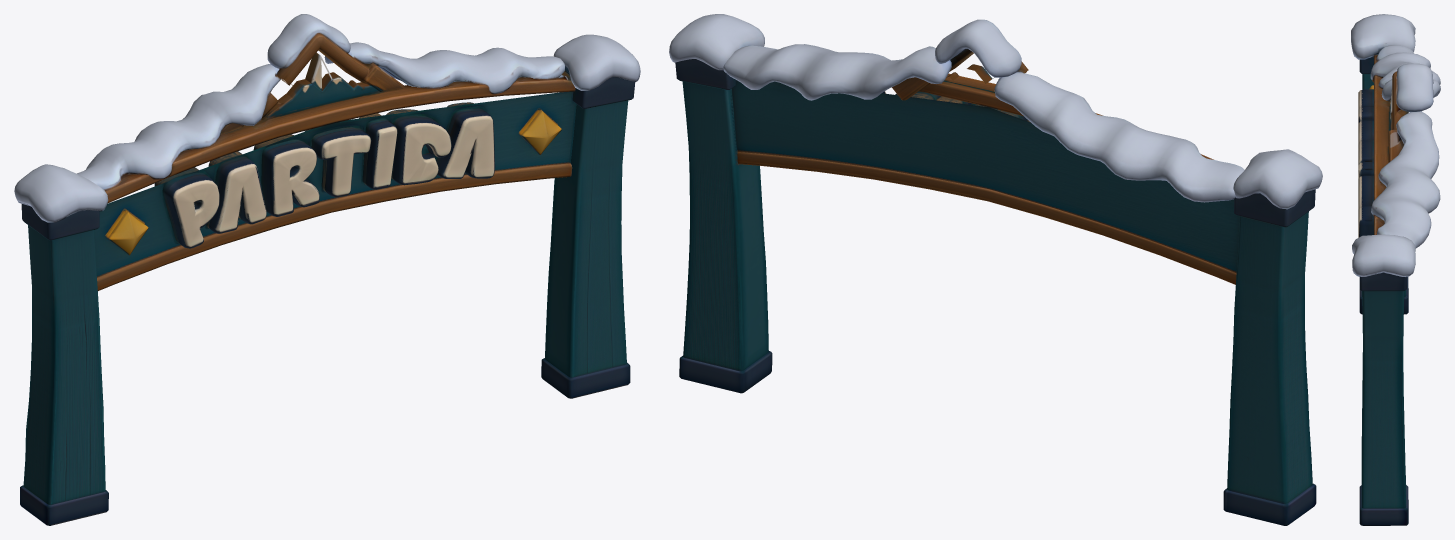
The model's file is start-gate.glb.
The picture shows the model from 3 angles, left to right: view 1: azimuth 30°, elevation 25°; view 2: azimuth 150°, elevation 25°; view 3: azimuth 270°, elevation 25°; orthographic projection. The views are drawn at different scales.
Parts seen in each view (by area): view 1: tripo_99e13290_f3a1_45a8_9406_10ff87a0d264; view 2: tripo_99e13290_f3a1_45a8_9406_10ff87a0d264; view 3: tripo_99e13290_f3a1_45a8_9406_10ff87a0d264.
Part boxes in pixels (x1,y1,x2,y2): tripo_99e13290_f3a1_45a8_9406_10ff87a0d264: (14,14,640,525); tripo_99e13290_f3a1_45a8_9406_10ff87a0d264: (669,14,1322,525); tripo_99e13290_f3a1_45a8_9406_10ff87a0d264: (1351,14,1440,525).
Size of the model in its own units: 0.9995 by 0.6597 by 0.1558.
1 material, 1 textured.
